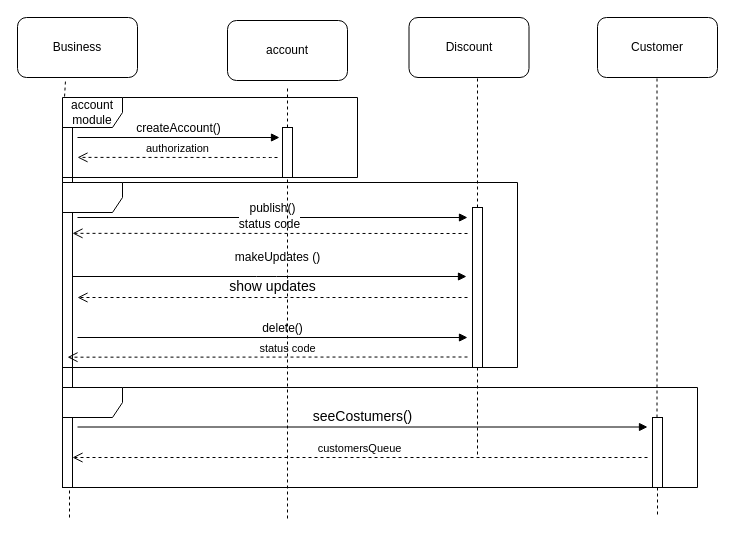
Image size: 735x537. Some labels were removed from this diagram. The shapes that lost their labels are listed below. From the top down, each one's centre as x and y in pixels, then its label:
(x=290, y=275): discount module
(x=380, y=437): customer module
